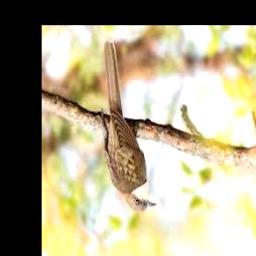Cuckoo: (102, 37, 158, 212)
